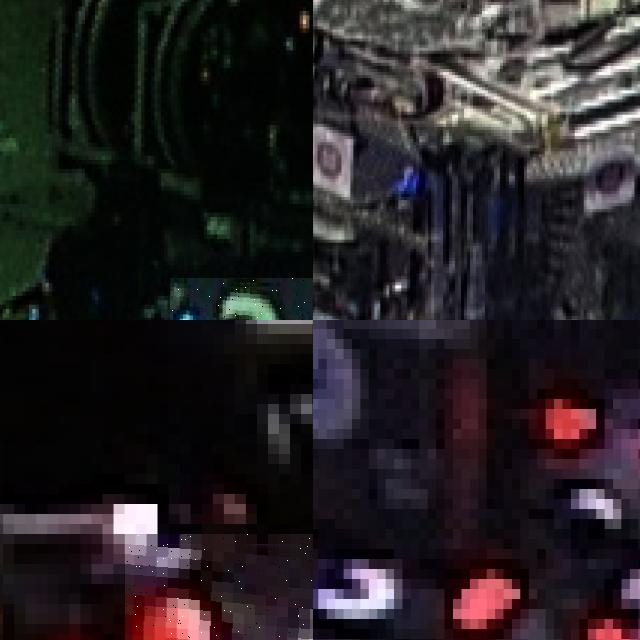B3: (170, 278, 313, 320)
R3: (124, 534, 313, 640), (587, 549, 640, 640)
